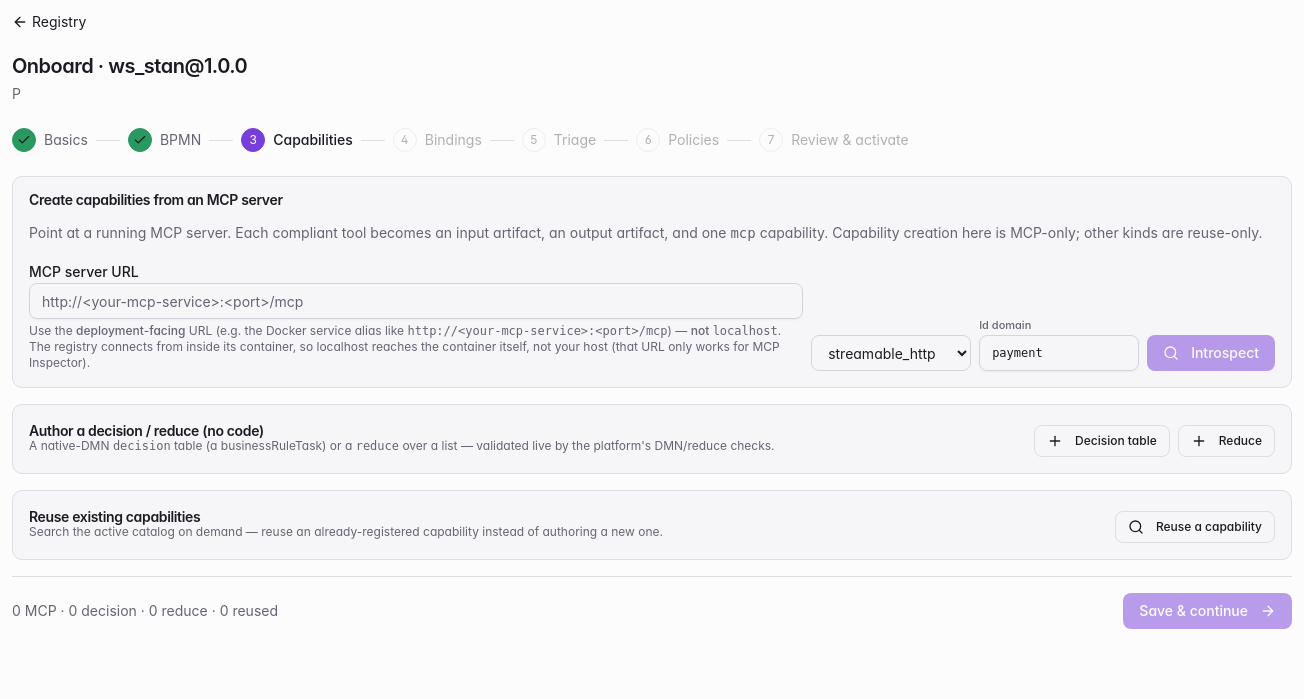
Test: Onboarding wizard › capabilities step surfaces an opaque-object warning without blocking selection (ADR-057)
Type "http://mcp:8060/mcp" into the field with placeholder "http://<your-mcp-service>:<port>/mcp" at (416, 301), box top-left (29, 283), bottom-right (803, 319)
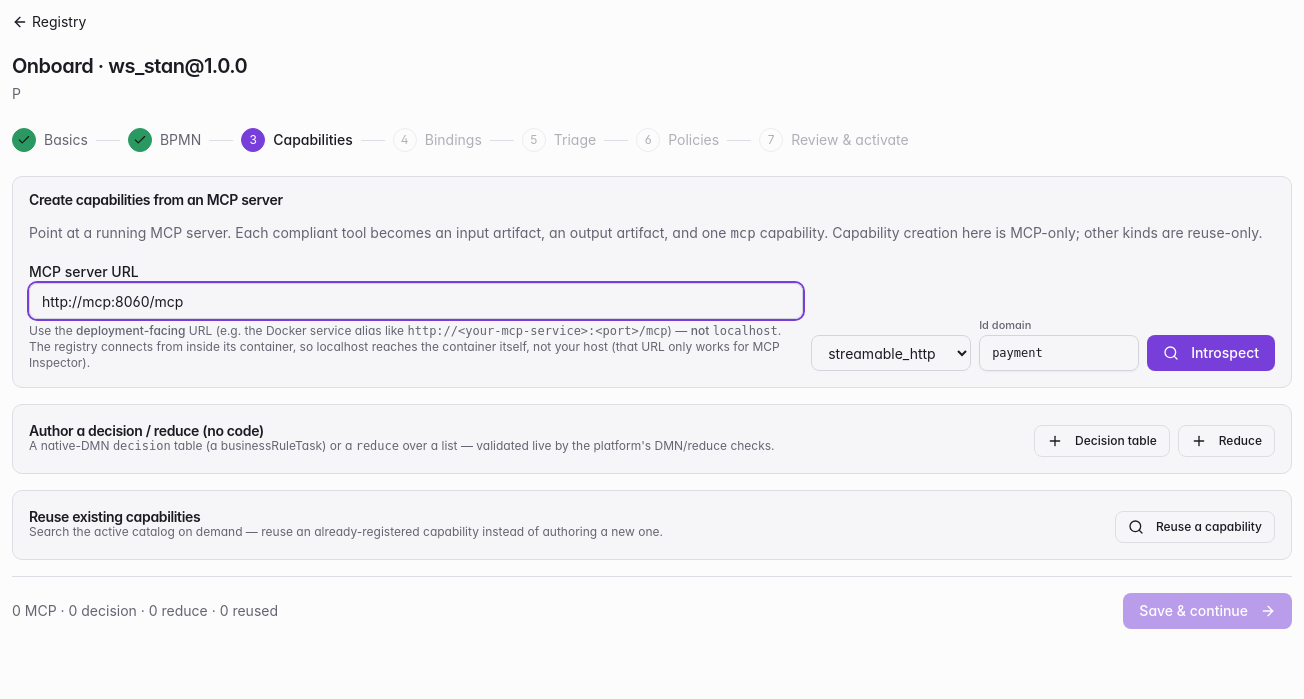
Click the button "Introspect" at (1211, 353), box top-left (1147, 335), bottom-right (1275, 371)
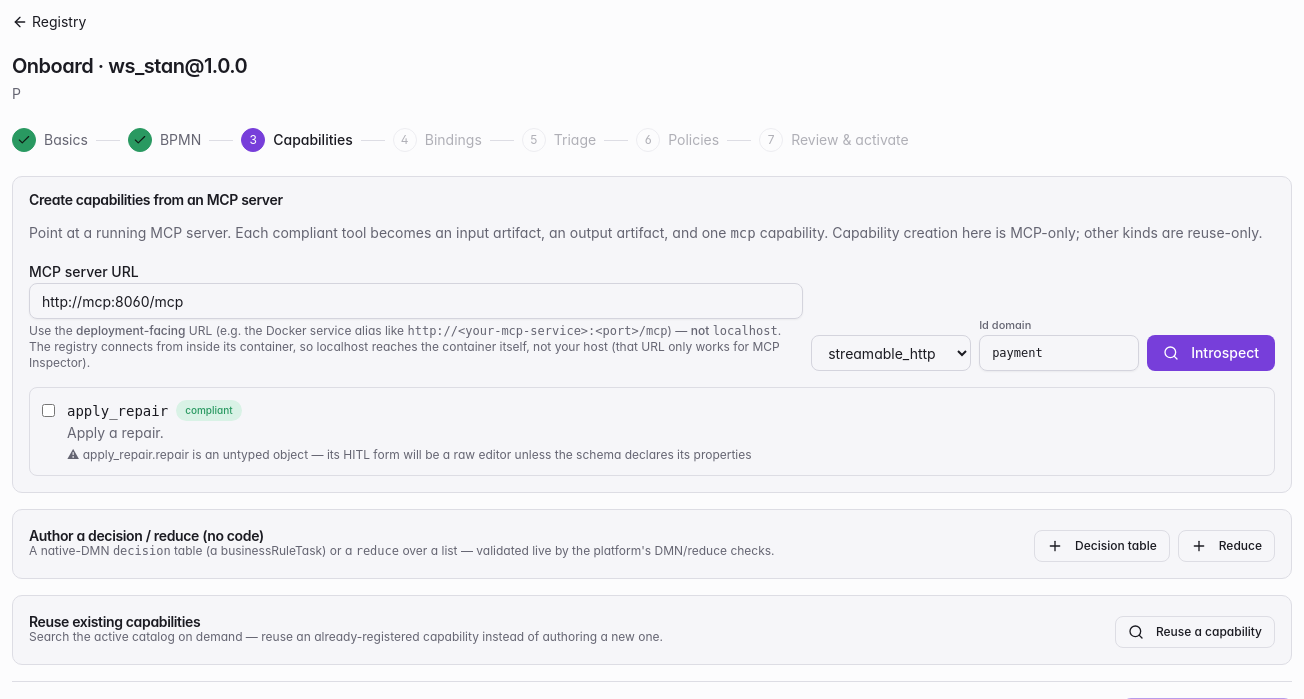
Now the list item "apply_repair.repair is an untyped object" is shown, box top-left (83, 447), bottom-right (752, 462)
Now the text "compliant" is shown, box top-left (176, 400), bottom-right (242, 421)
Now the checkbox is shown, box top-left (42, 404), bottom-right (55, 417)
